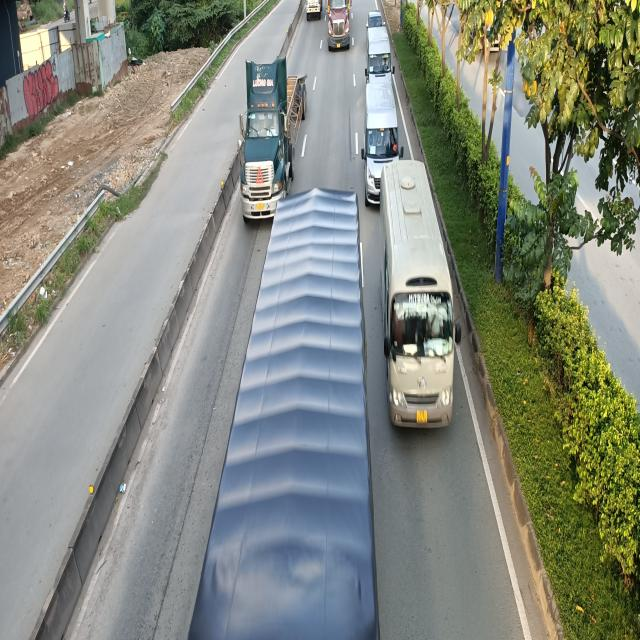container: (240, 63, 309, 223), (328, 0, 353, 48)
truck: (190, 190, 383, 640), (384, 162, 464, 433)
van: (361, 84, 402, 206), (366, 29, 394, 82)
